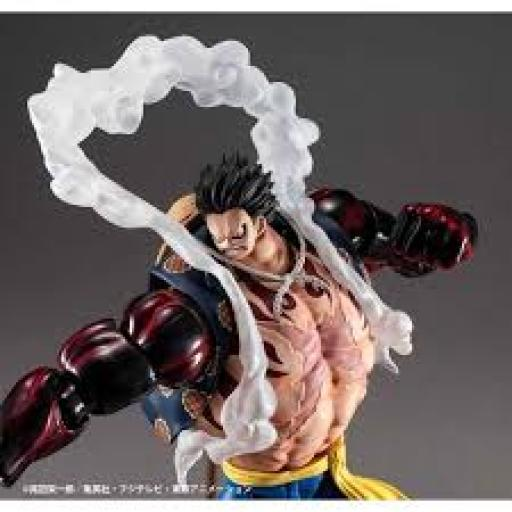luffy: (0, 36, 471, 496), (2, 157, 473, 496)
